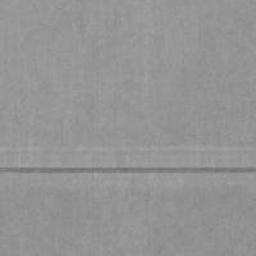Welding line: (0, 167, 256, 173)
